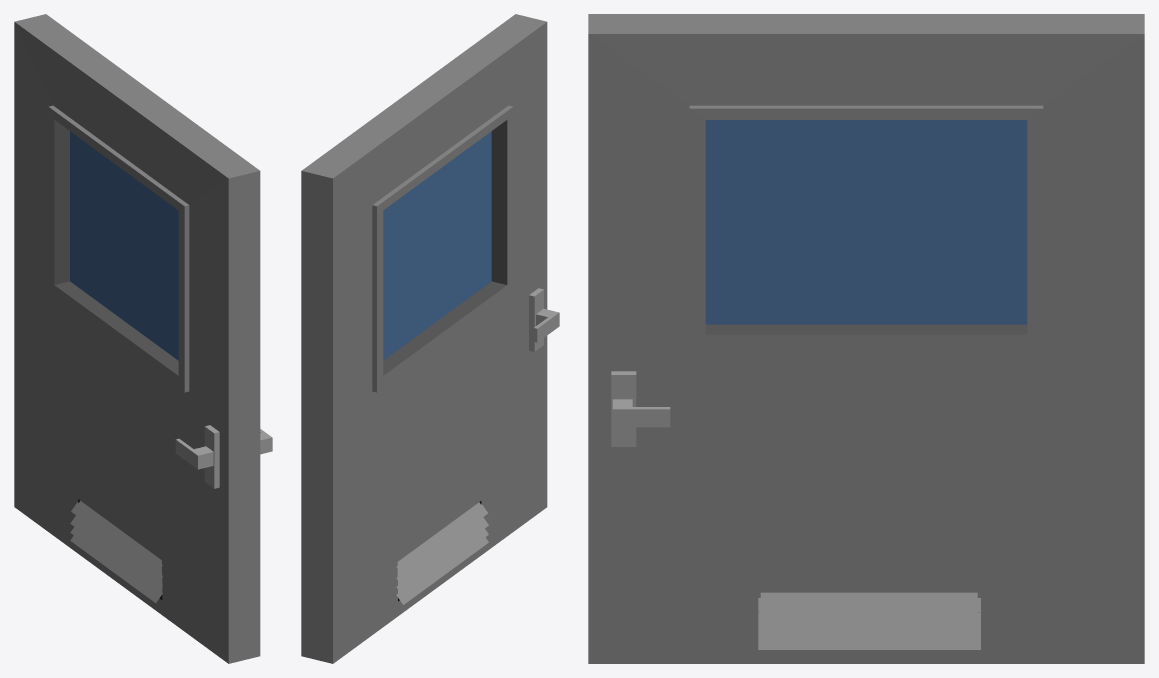
Rendered from Model_Door.fbx.
3 renders of one model, left to right at view 1: azimuth 30°, elevation 25°; view 2: azimuth 150°, elevation 25°; view 3: azimuth 270°, elevation 25°, orthographic. The views are drawn at different scales.
Parts seen in each view (by area): view 1: Mesh_Door; view 2: Mesh_Door; view 3: Mesh_Door.
Part boxes in pixels (x1,y1,x2,y2): Mesh_Door: [14, 14, 272, 663]; Mesh_Door: [301, 14, 559, 663]; Mesh_Door: [588, 14, 1144, 663].
Size of the model in its own units: 200 by 250 by 40.22.
